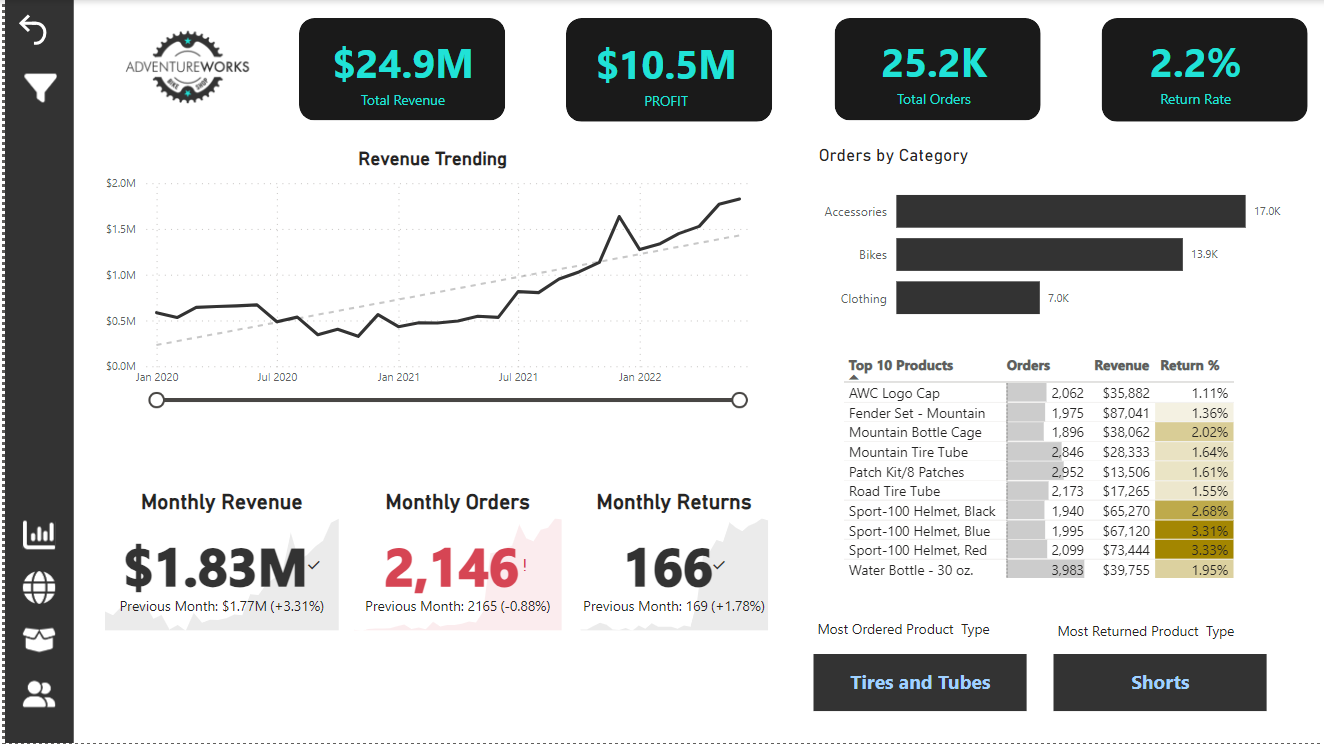

The page's visual inventory and layout, read from the dashboard file:
{"tool":"powerbi","page":{"name":"Exec","canvas":[1280,720],"ordinal":0},"visuals":[{"type":"image","title":"AW LOGO","box":[99.4,13,156.4,104.3],"z":0},{"type":"shape","box":[285.1,18.6,200,99.3],"z":0,"group":"g1"},{"type":"actionButton","box":[0,601.8,66.2,39.7],"z":0,"group":"g2"},{"type":"shape","title":"Left Nav Bacground","box":[0,0,67,720.9],"z":1000},{"type":"shape","box":[544.7,17.9,200,100.7],"z":1000,"group":"g1"},{"type":"actionButton","box":[0,653.1,66.2,39.7],"z":1000,"group":"g2"},{"type":"group","id":"g1","title":"KPI'S Background","box":[285.1,17.9,979.1,101],"z":2000},{"type":"shape","box":[804.3,18.6,200,99.3],"z":2000,"group":"g1"},{"type":"actionButton","box":[0,499.4,66.2,39.7],"z":2000,"group":"g2"},{"type":"card","fields":{"Values":["AdventureWorks Returns Data.Measure"]},"box":[244.5,0,282.4,138.6],"z":3000},{"type":"shape","box":[1064,17.9,200,100.7],"z":3000,"group":"g1"},{"type":"actionButton","box":[0,550.6,66.2,39.7],"z":3000,"group":"g2"},{"type":"card","fields":{"Values":["MeasuresTable.Profit"]},"box":[498.5,1.6,283.5,136.9],"z":4000},{"type":"card","fields":{"Values":["MeasuresTable.RETURN RATE"]},"box":[1027.9,0,251.7,136.4],"z":5000},{"type":"card","fields":{"Values":["MeasuresTable.ORDERS"]},"box":[774.9,0,250.3,136.4],"z":6000},{"type":"lineChart","title":"Revenue Trending","fields":{"Y":["AdventureWorks Returns Data.Total Revenue"],"Category":["Calendar Lookup.Year","Calendar Lookup.Start of Quarter","Calendar Lookup.Start of Month"]},"box":[92,135.9,646.3,263.5],"z":7000},{"type":"kpi","title":"Monthly Orders","fields":{"TrendLine":["Calendar Lookup.Start of Month"],"Indicator":["MeasuresTable.Total Orders"],"Goal":["MeasuresTable.Previous Month Orders"]},"box":[332.5,463.6,211.9,152.3],"z":8000},{"type":"kpi","title":"Monthly Revenue","fields":{"Indicator":["MeasuresTable.Total Revenue"],"TrendLine":["Calendar Lookup.Start of Month"],"Goal":["MeasuresTable.Privious Month Revenue"]},"box":[91.4,463.6,237.1,152.3],"z":9000},{"type":"kpi","title":"Monthly Returns","fields":{"TrendLine":["Calendar Lookup.Start of Month"],"Indicator":["MeasuresTable.Total Returns"],"Goal":["MeasuresTable.Privious Month Returns"]},"box":[552.4,463.6,192.1,152.3],"z":10000},{"type":"clusteredBarChart","title":"Orders by Category","fields":{"Category":["Product Categories Lookup.CategoryName"],"Y":["MeasuresTable.Total Orders"]},"box":[784.2,139.1,459.6,188.1],"z":11000},{"type":"tableEx","fields":{"Values":["Product Lookup.ProductName","MeasuresTable.Total Orders","MeasuresTable.Total Revenue","MeasuresTable.Return Rate"]},"box":[806.7,339.1,393.4,226.5],"z":12000},{"type":"card","fields":{"Values":["Min(Product Subcategories Lookup.SubcategoryName)"]},"box":[783.7,634.5,206.6,55.6],"z":13000},{"type":"textbox","box":[782.4,594.7,208,38.4],"z":14000},{"type":"card","fields":{"Values":["Min(Product Subcategories Lookup.SubcategoryName)"]},"box":[1016.8,634.5,206.6,55.6],"z":15000},{"type":"textbox","box":[1015.5,596.1,208,38.4],"z":16000},{"type":"actionButton","box":[7.9,9.3,53,39.7],"z":17000},{"type":"group","id":"g2","title":"Navigation Button","box":[0,499.4,66.2,193.4],"z":18000},{"type":"actionButton","box":[1.3,64.9,66.2,39.7],"z":19000}]}

Visuals, with their boxes on the page's 1280x720 design canvas (x1, y1, x2, y2). These are canvas units, not pixel positions in the 1324x744 screenshot, which may show the page scaled, cropped or inside an application window:
"AW LOGO" image: select_region(99, 13, 256, 117)
shape: select_region(285, 19, 485, 118)
actionButton: select_region(0, 602, 66, 642)
"Left Nav Bacground" shape: select_region(0, 0, 67, 721)
shape: select_region(545, 18, 745, 119)
actionButton: select_region(0, 653, 66, 693)
"KPI'S Background" group: select_region(285, 18, 1264, 119)
shape: select_region(804, 19, 1004, 118)
actionButton: select_region(0, 499, 66, 539)
card - AdventureWorks Returns Data.Measure: select_region(244, 0, 527, 139)
shape: select_region(1064, 18, 1264, 119)
actionButton: select_region(0, 551, 66, 590)
card - MeasuresTable.Profit: select_region(498, 2, 782, 138)
card - MeasuresTable.RETURN RATE: select_region(1028, 0, 1280, 136)
card - MeasuresTable.ORDERS: select_region(775, 0, 1025, 136)
"Revenue Trending" lineChart: select_region(92, 136, 738, 399)
"Monthly Orders" kpi: select_region(332, 464, 544, 616)
"Monthly Revenue" kpi: select_region(91, 464, 328, 616)
"Monthly Returns" kpi: select_region(552, 464, 744, 616)
"Orders by Category" clusteredBarChart: select_region(784, 139, 1244, 327)
tableEx - Product Lookup.ProductName x MeasuresTable.Total Orders: select_region(807, 339, 1200, 566)
card - Min(Product Subcategories Lookup.SubcategoryName): select_region(784, 634, 990, 690)
textbox: select_region(782, 595, 990, 633)
card - Min(Product Subcategories Lookup.SubcategoryName): select_region(1017, 634, 1223, 690)
textbox: select_region(1016, 596, 1224, 634)
actionButton: select_region(8, 9, 61, 49)
"Navigation Button" group: select_region(0, 499, 66, 693)
actionButton: select_region(1, 65, 68, 105)
